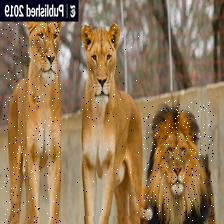Lion: (76, 27, 142, 217), (0, 23, 60, 224), (142, 100, 213, 221)
